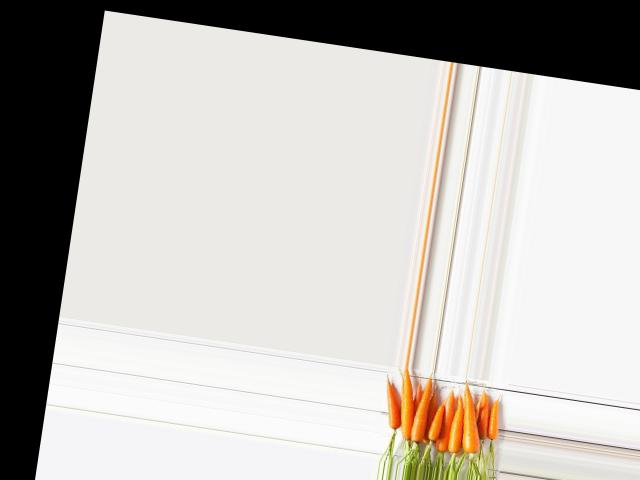carrot: (481, 393, 507, 443)
